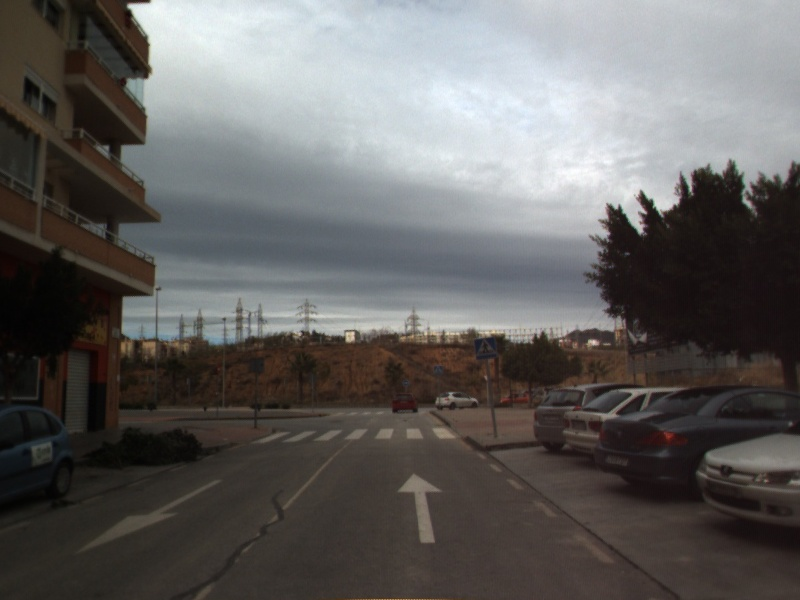STRAIGHT: (395, 471, 445, 546)
